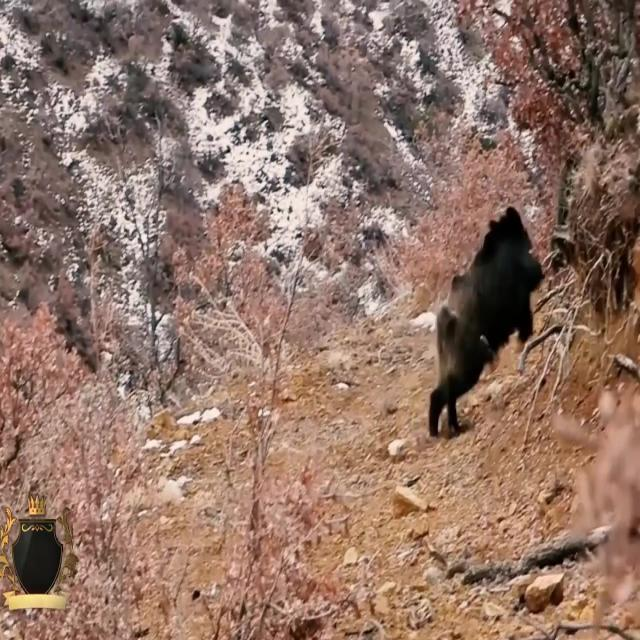pig: (412, 190, 547, 443)
